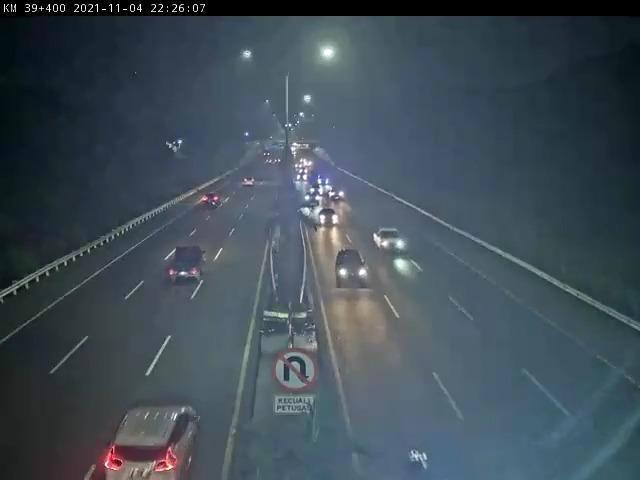car: (374, 363, 461, 452), (114, 397, 201, 478), (337, 246, 366, 289), (378, 220, 405, 255), (199, 191, 220, 216), (319, 200, 333, 226), (241, 178, 259, 197)
truck: (156, 240, 208, 298)
